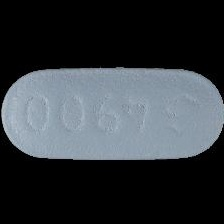75921-490: (0, 0, 224, 224)
